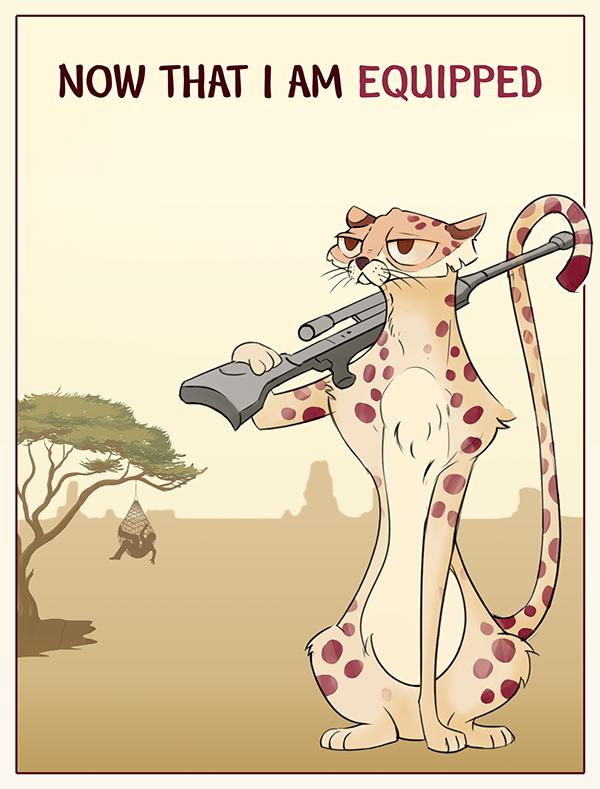cat: (249, 175, 586, 764)
